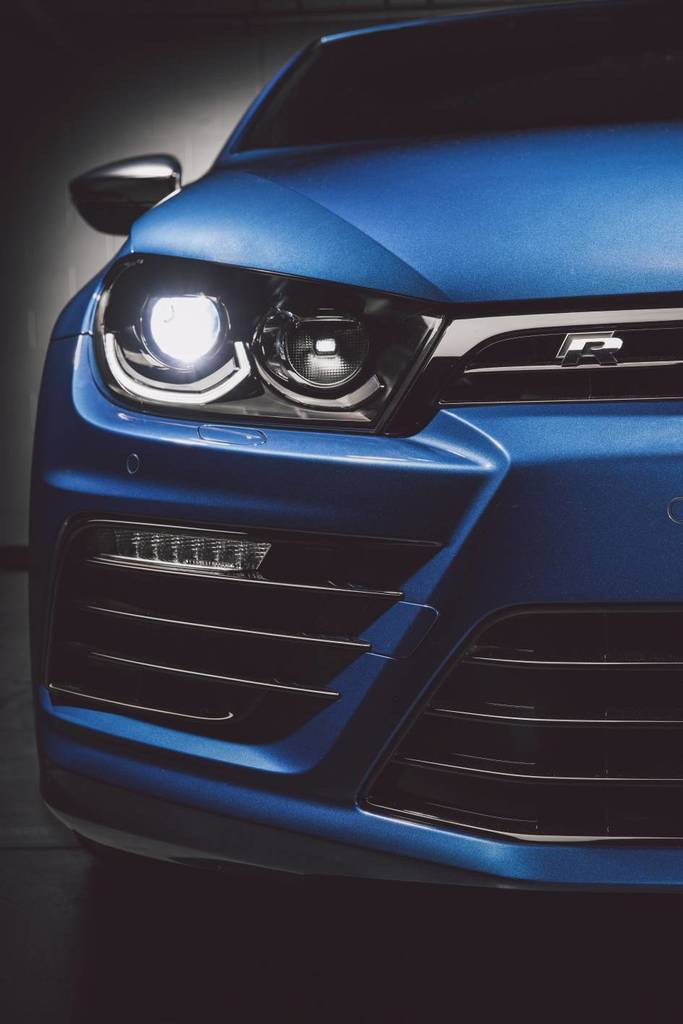Car: (20, 0, 626, 979)
